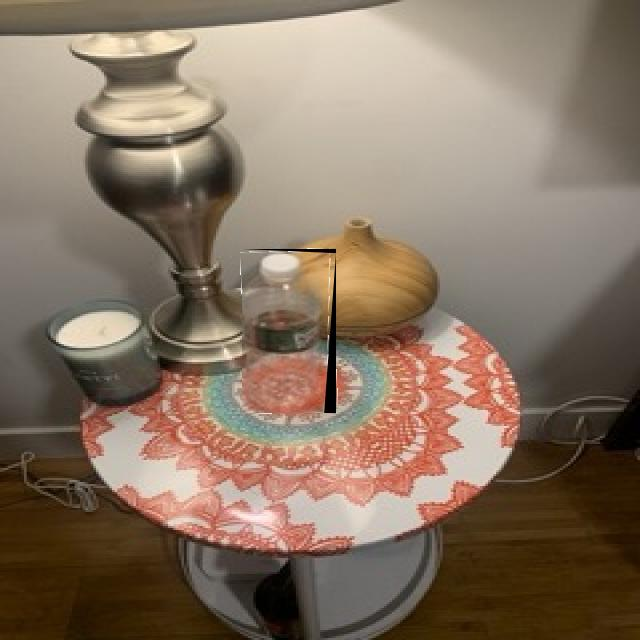water_bottle: (242, 249, 336, 413)
